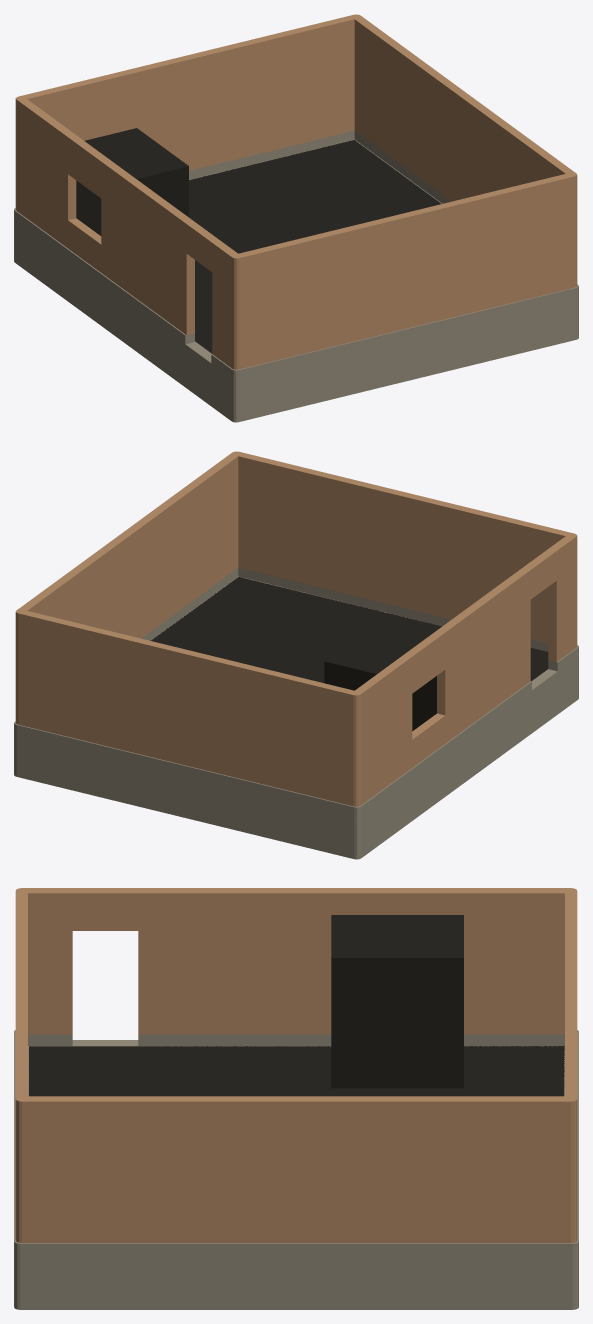
The model's file is SM_Homes_H01_Shell_LOD1.fbx.
3 views of the same model, one above another, from view 1: azimuth 30°, elevation 25°; view 2: azimuth 150°, elevation 25°; view 3: azimuth 270°, elevation 25° (orthographic). The views are drawn at different scales.
Parts seen in each view (by area): view 1: SM_Homes_H01_Shell_LOD1; view 2: SM_Homes_H01_Shell_LOD1; view 3: SM_Homes_H01_Shell_LOD1.
Part boxes in pixels (x1,y1,x2,y2): SM_Homes_H01_Shell_LOD1: (14, 14, 578, 422); SM_Homes_H01_Shell_LOD1: (14, 451, 578, 859); SM_Homes_H01_Shell_LOD1: (14, 888, 578, 1309).
Bounding box in the file's own units: 9.06 × 10.06 × 4.08.
